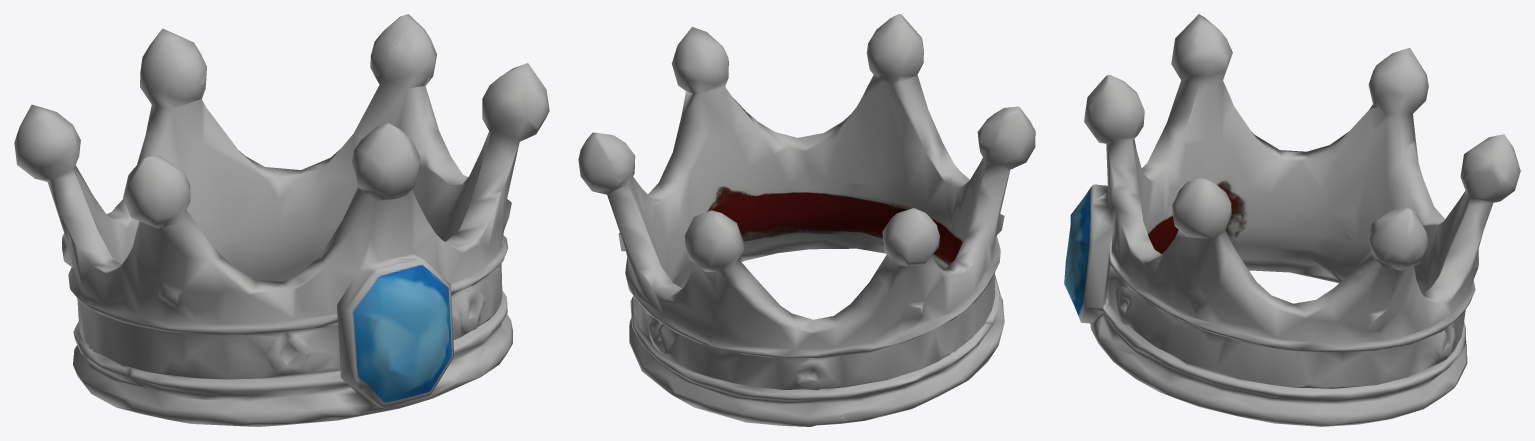
File: Crown_T3.fbx
3 views of the same model, side by side, from view 1: azimuth 30°, elevation 25°; view 2: azimuth 150°, elevation 25°; view 3: azimuth 270°, elevation 25° (orthographic). The views are drawn at different scales.
Visible parts, largest first — view 1: Crown_T3; view 2: Crown_T3; view 3: Crown_T3.
Boxes of the visible parts, box(x1,y1,x2,y2) form: Crown_T3: box(14, 14, 549, 426); Crown_T3: box(578, 14, 1035, 426); Crown_T3: box(1064, 14, 1520, 426).
Size of the model in its own units: 92.79 by 69.87 by 100.
Materials: 1 (1 with a texture image).
